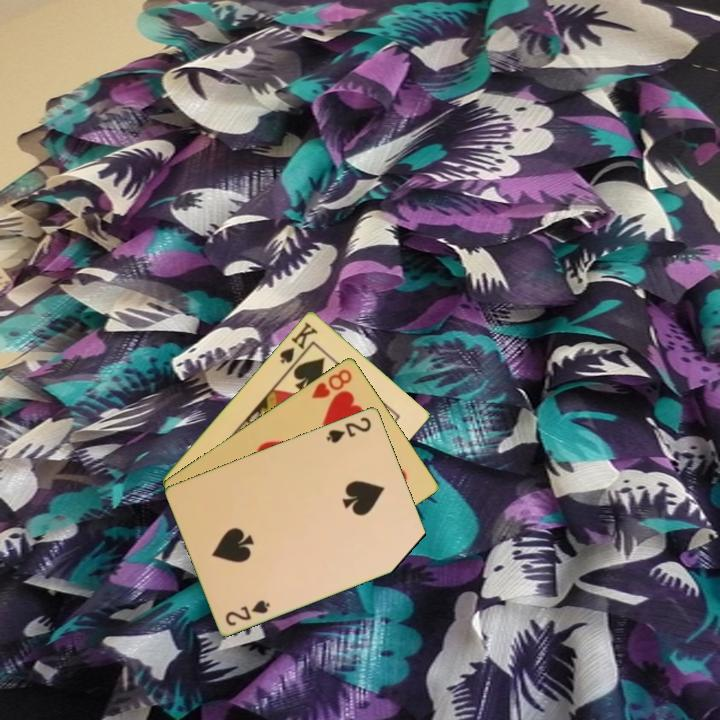2s: (323, 413, 374, 446), (222, 596, 273, 628)
8h: (308, 365, 355, 401)
Ks: (276, 318, 321, 371)
